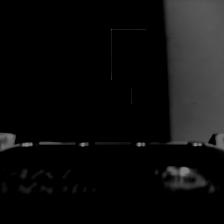Door Handle: (107, 33, 150, 76)
Lock: (134, 86, 154, 107)
